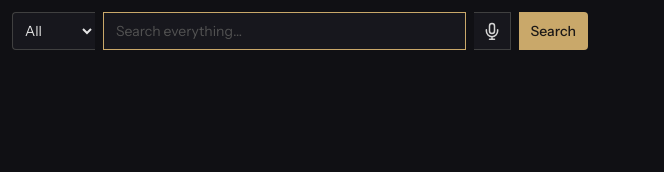
it: SearchForm › explains empty and failed recognition attempts
Step 1. Click the button named "Start voice search" → point(492, 31), box [474, 12, 510, 50]
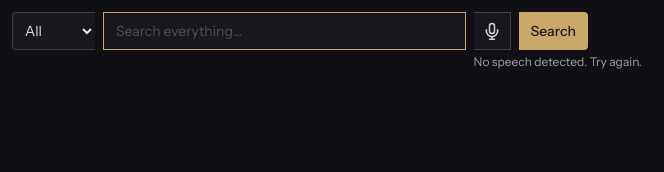
Expected: the message reads "No speech detected. Try again.", [474, 54, 642, 69]
Step 2. Click the button named "Start voice search" → point(492, 31), box [474, 12, 510, 50]
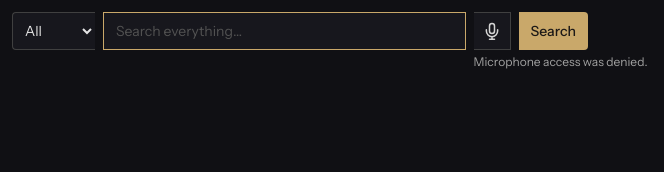
Expected: the message reads "Microphone access was denied.", [474, 54, 647, 69]
